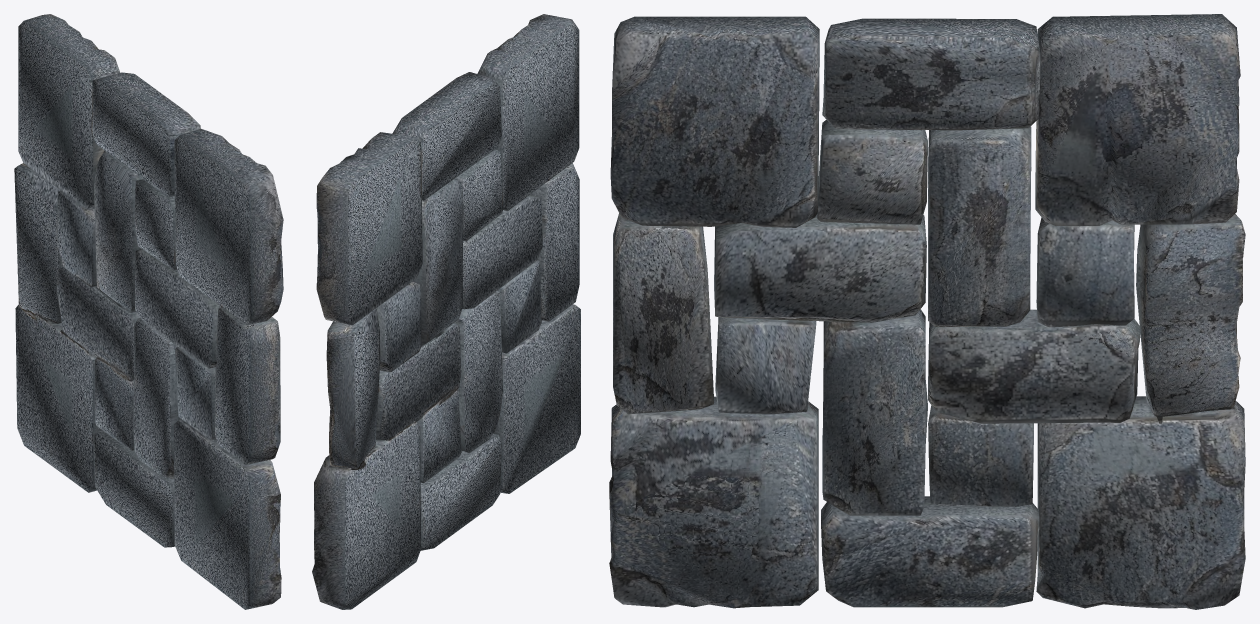
Rendered from tripo_convert_2efd3375-590c-4dd5-81b4-e1ac9f980e1d.fbx.
3 renders of one model, left to right at view 1: azimuth 30°, elevation 25°; view 2: azimuth 150°, elevation 25°; view 3: azimuth 270°, elevation 25°, orthographic. The views are drawn at different scales.
Parts seen in each view (by area): view 1: tripo_node_2efd3375; view 2: tripo_node_2efd3375; view 3: tripo_node_2efd3375.
Boxes of the visible parts, x1,y1,x2,y2 form: tripo_node_2efd3375: [14, 14, 283, 609]; tripo_node_2efd3375: [312, 14, 580, 609]; tripo_node_2efd3375: [609, 14, 1245, 609].
Size of the model in its own units: 0.1113 by 0.998 by 0.998.
Materials: 1 (1 with a texture image).
